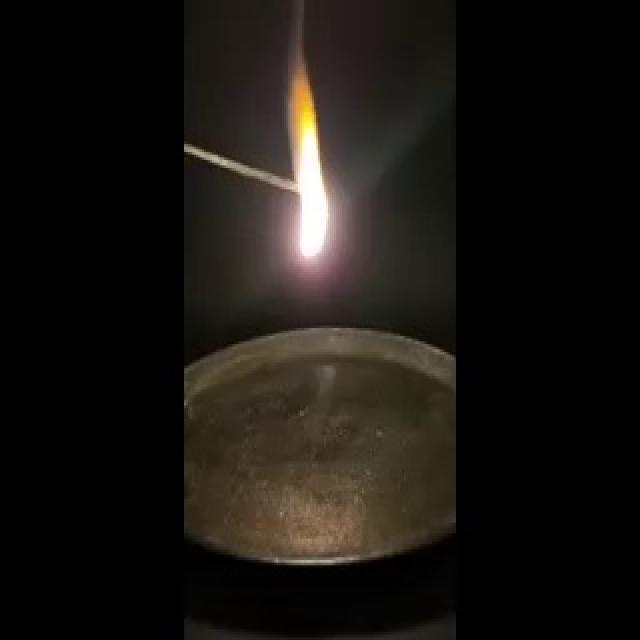fire: (287, 100, 339, 271)
